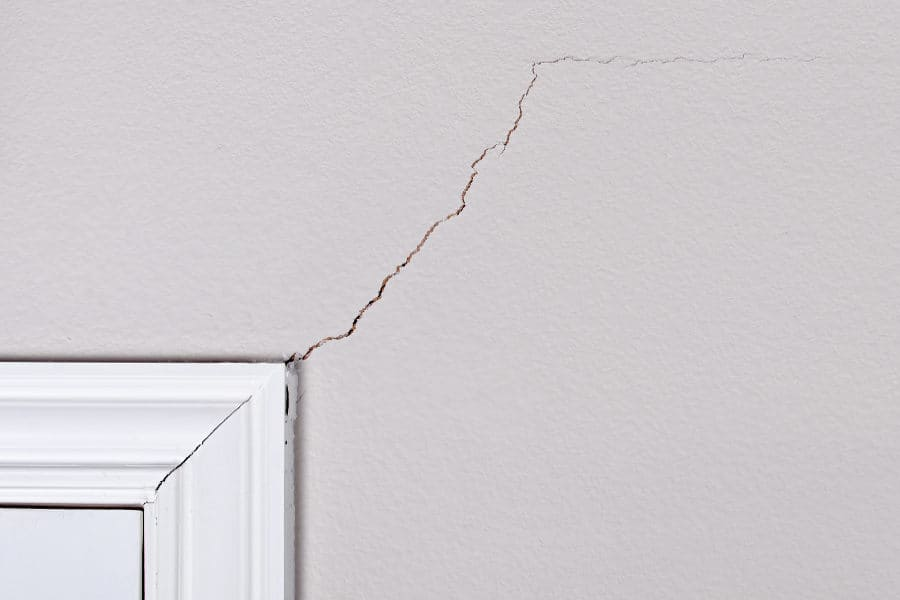crack: (290, 60, 533, 358), (530, 55, 836, 65)
